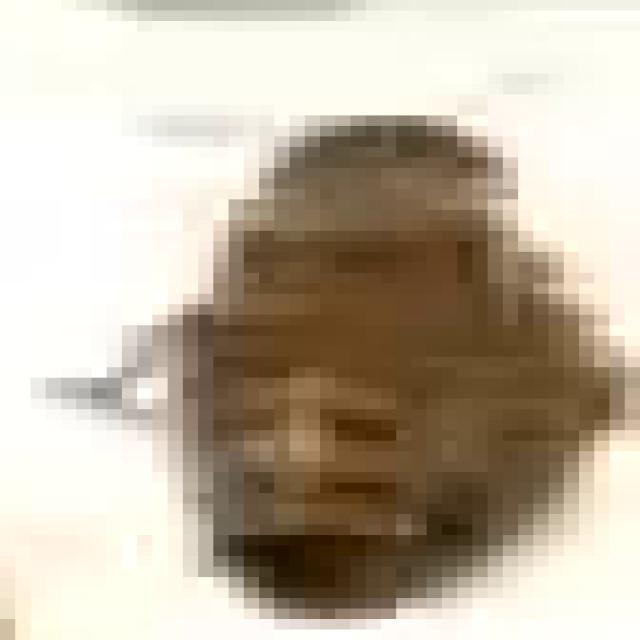honeybee: (108, 101, 633, 627)
